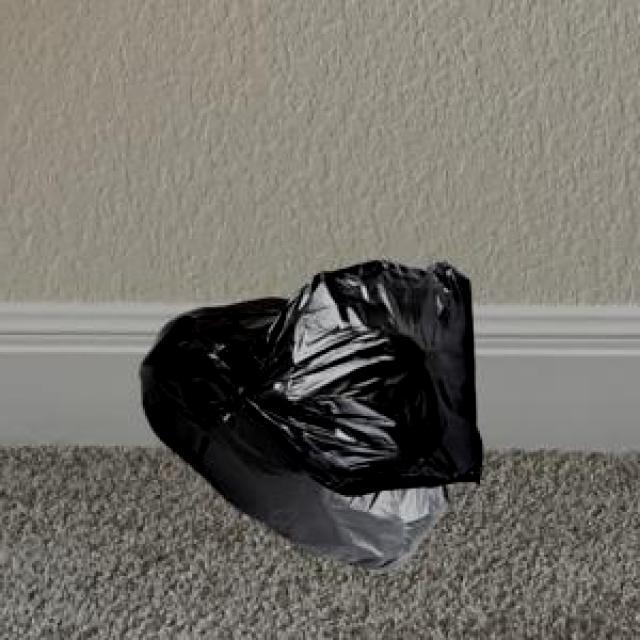Trashbag: (208, 237, 494, 496)
